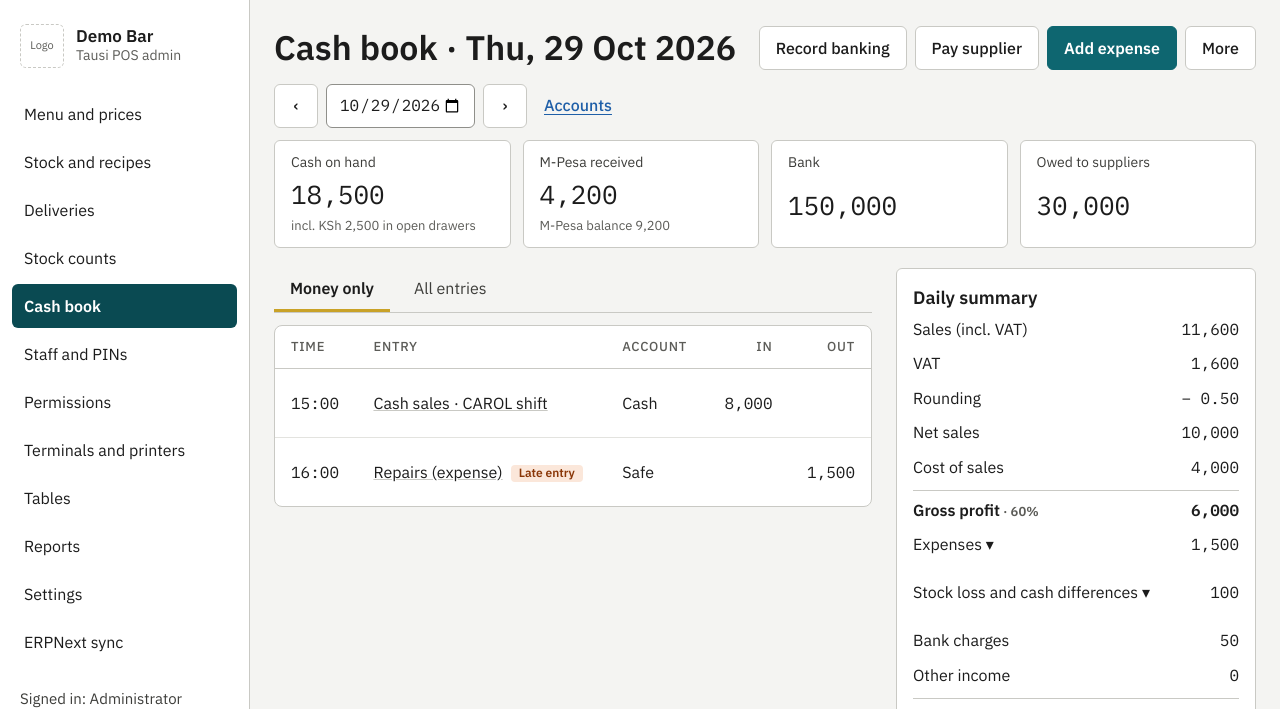
Cash book › pays a supplier no more than what is owed
Click the button "Pay supplier" at (977, 48), box left=915, top=26, right=1039, bottom=70
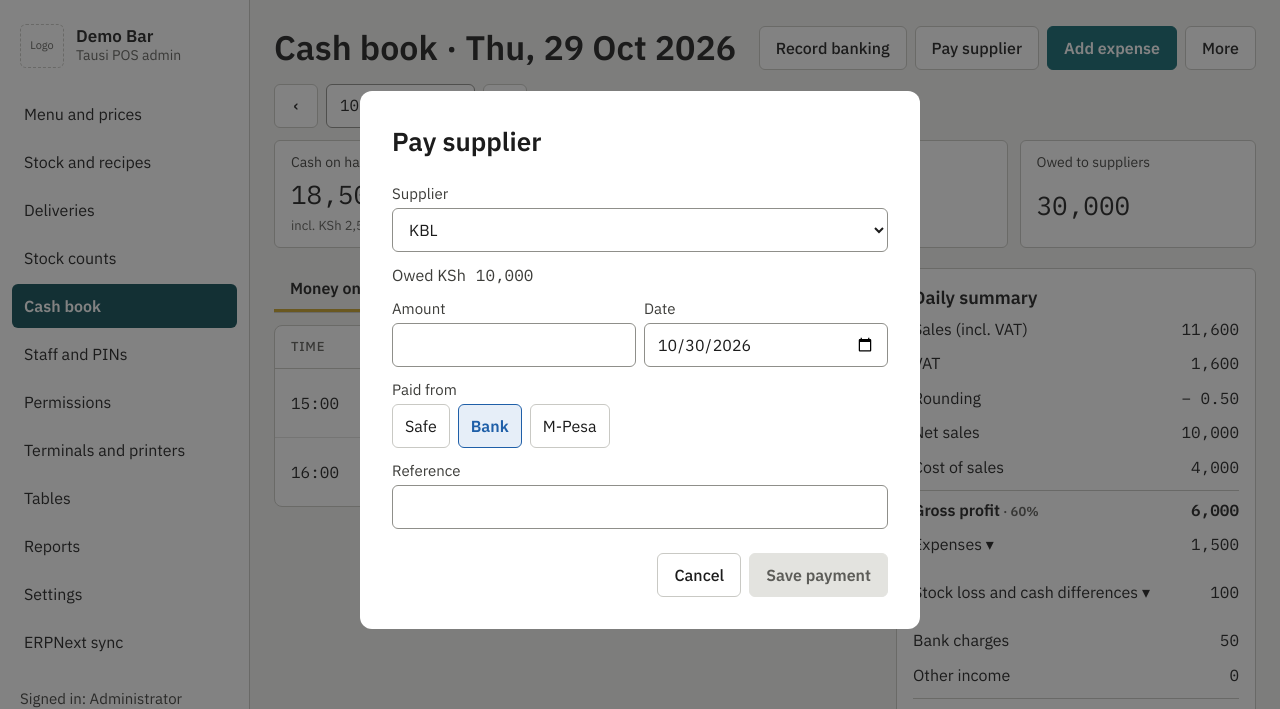
Check: the text "KSh 10,000" is shown, box left=437, top=265, right=533, bottom=285
Type "25000" into the field labelled "Amount" at (514, 345), box left=392, top=323, right=636, bottom=367
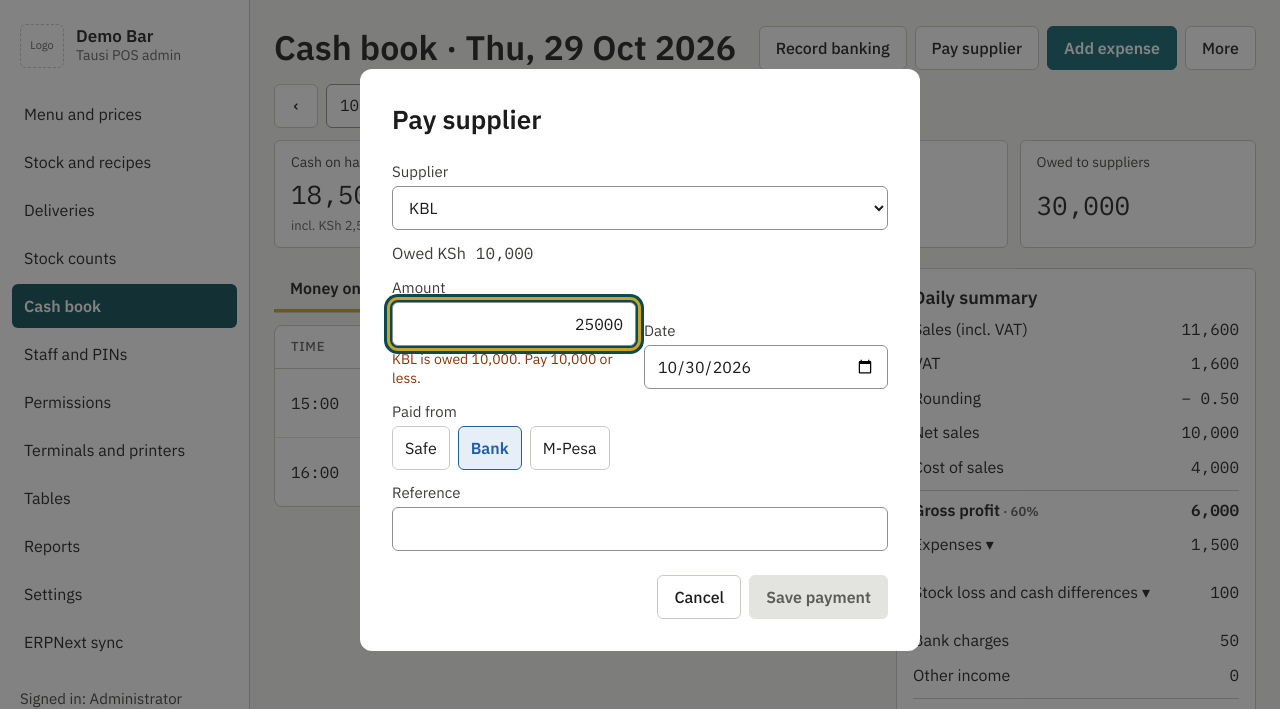
Check: the button "Save payment" is disabled, box left=749, top=575, right=888, bottom=619
Check: the text "KBL is owed 10,000. Pay 10,000 or less." is shown, box left=392, top=350, right=636, bottom=389
Clear the field labelled "Amount" at (514, 324), box left=392, top=302, right=636, bottom=346
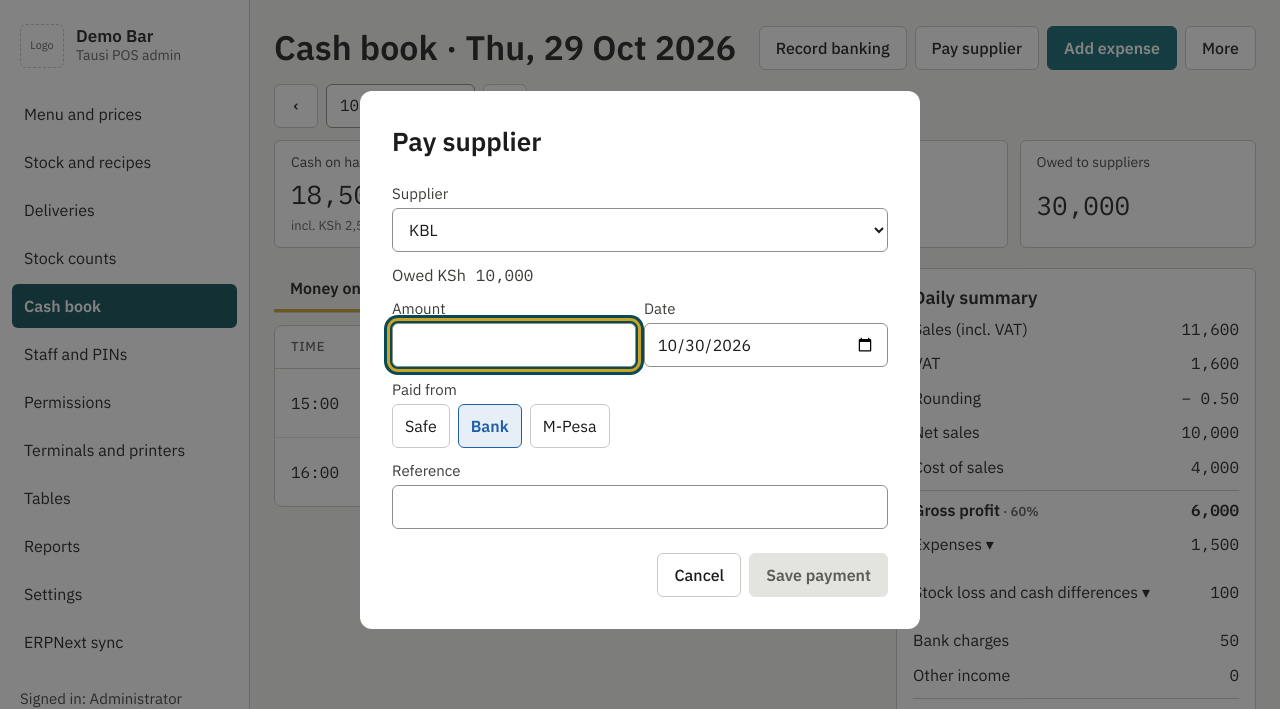
Type "10000" into the field labelled "Amount" at (514, 345), box left=392, top=323, right=636, bottom=367
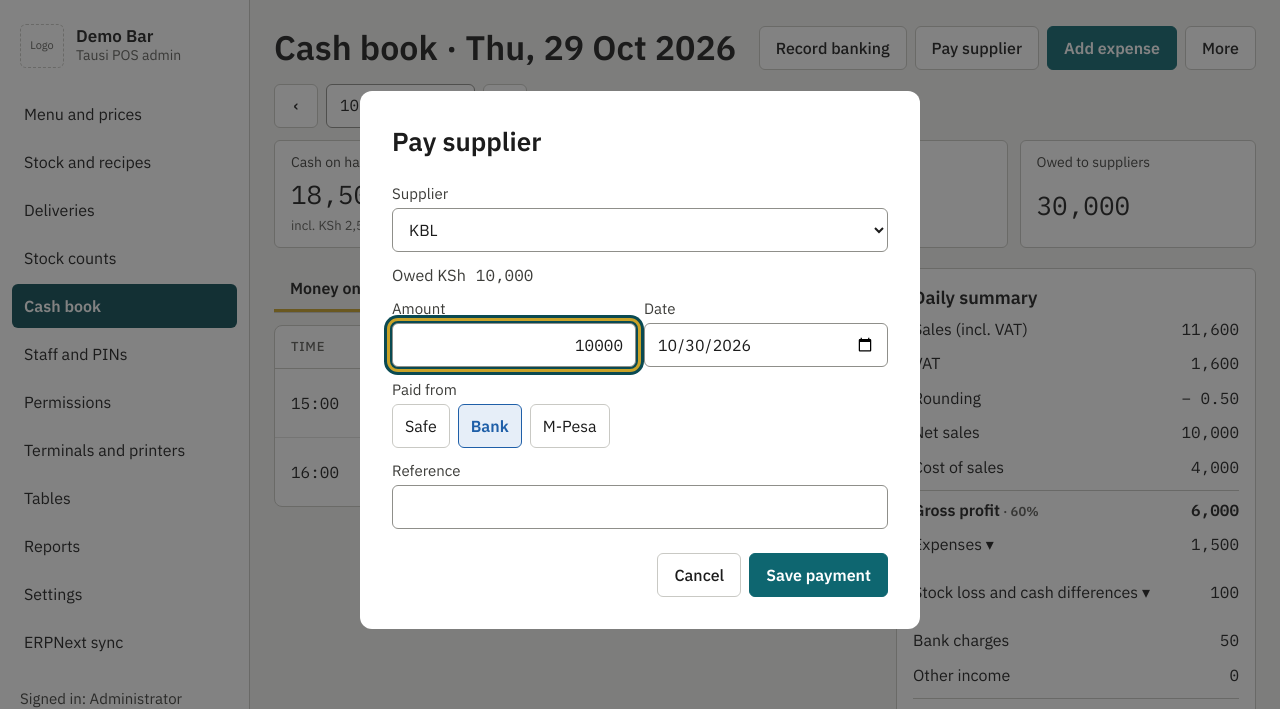
Click the button "Save payment" at (819, 575), box left=749, top=553, right=888, bottom=597
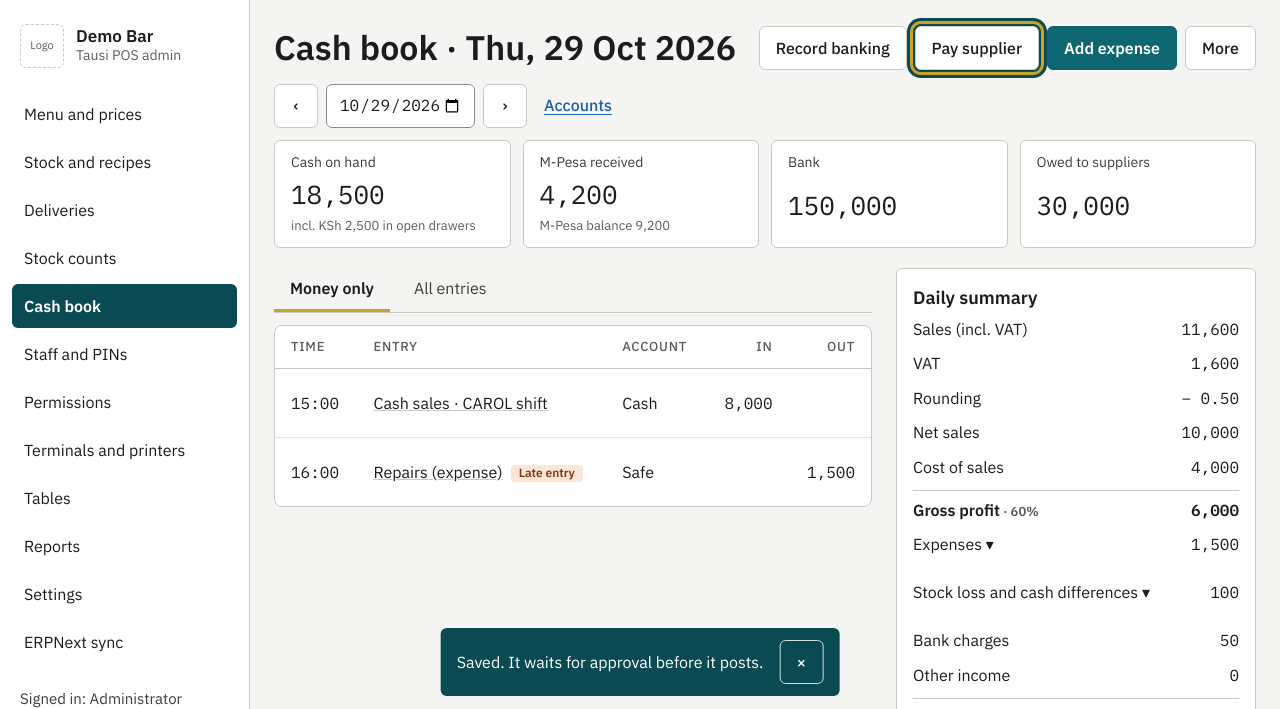
Check: the text "Saved. It waits for approval before it posts." is shown, box left=457, top=651, right=763, bottom=673
